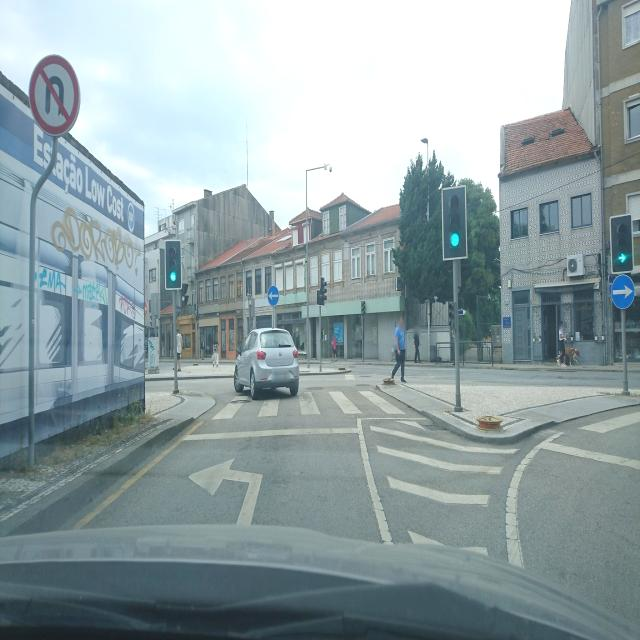car: (233, 326, 300, 398)
